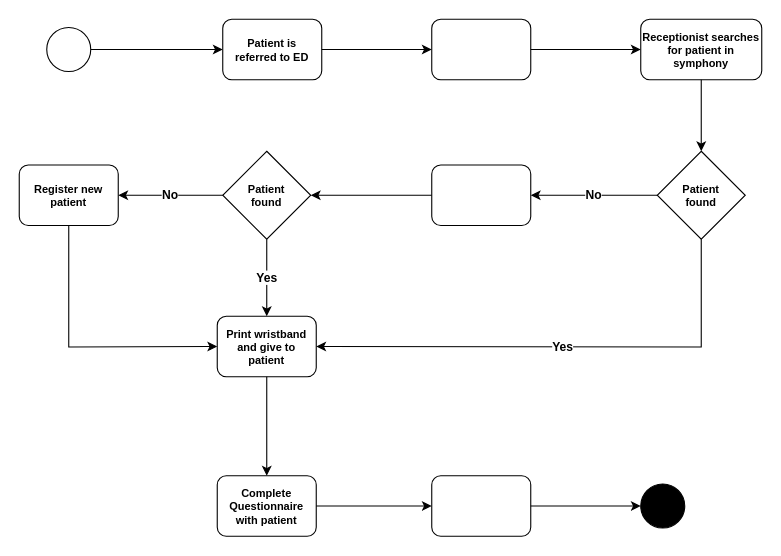
This 781x556 diagram has some shape labels left out. The centre of each missing label's shape, as x and y in pixels:
Patient is asked for personal details: the point at 481,49
Search for patient in WPAS: the point at 481,195
Update Symphony: the point at 481,505
